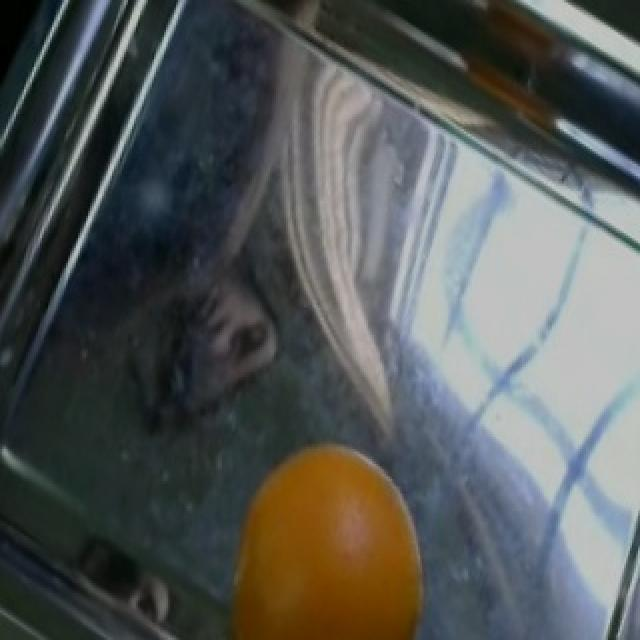Fruit: (210, 424, 442, 638)
